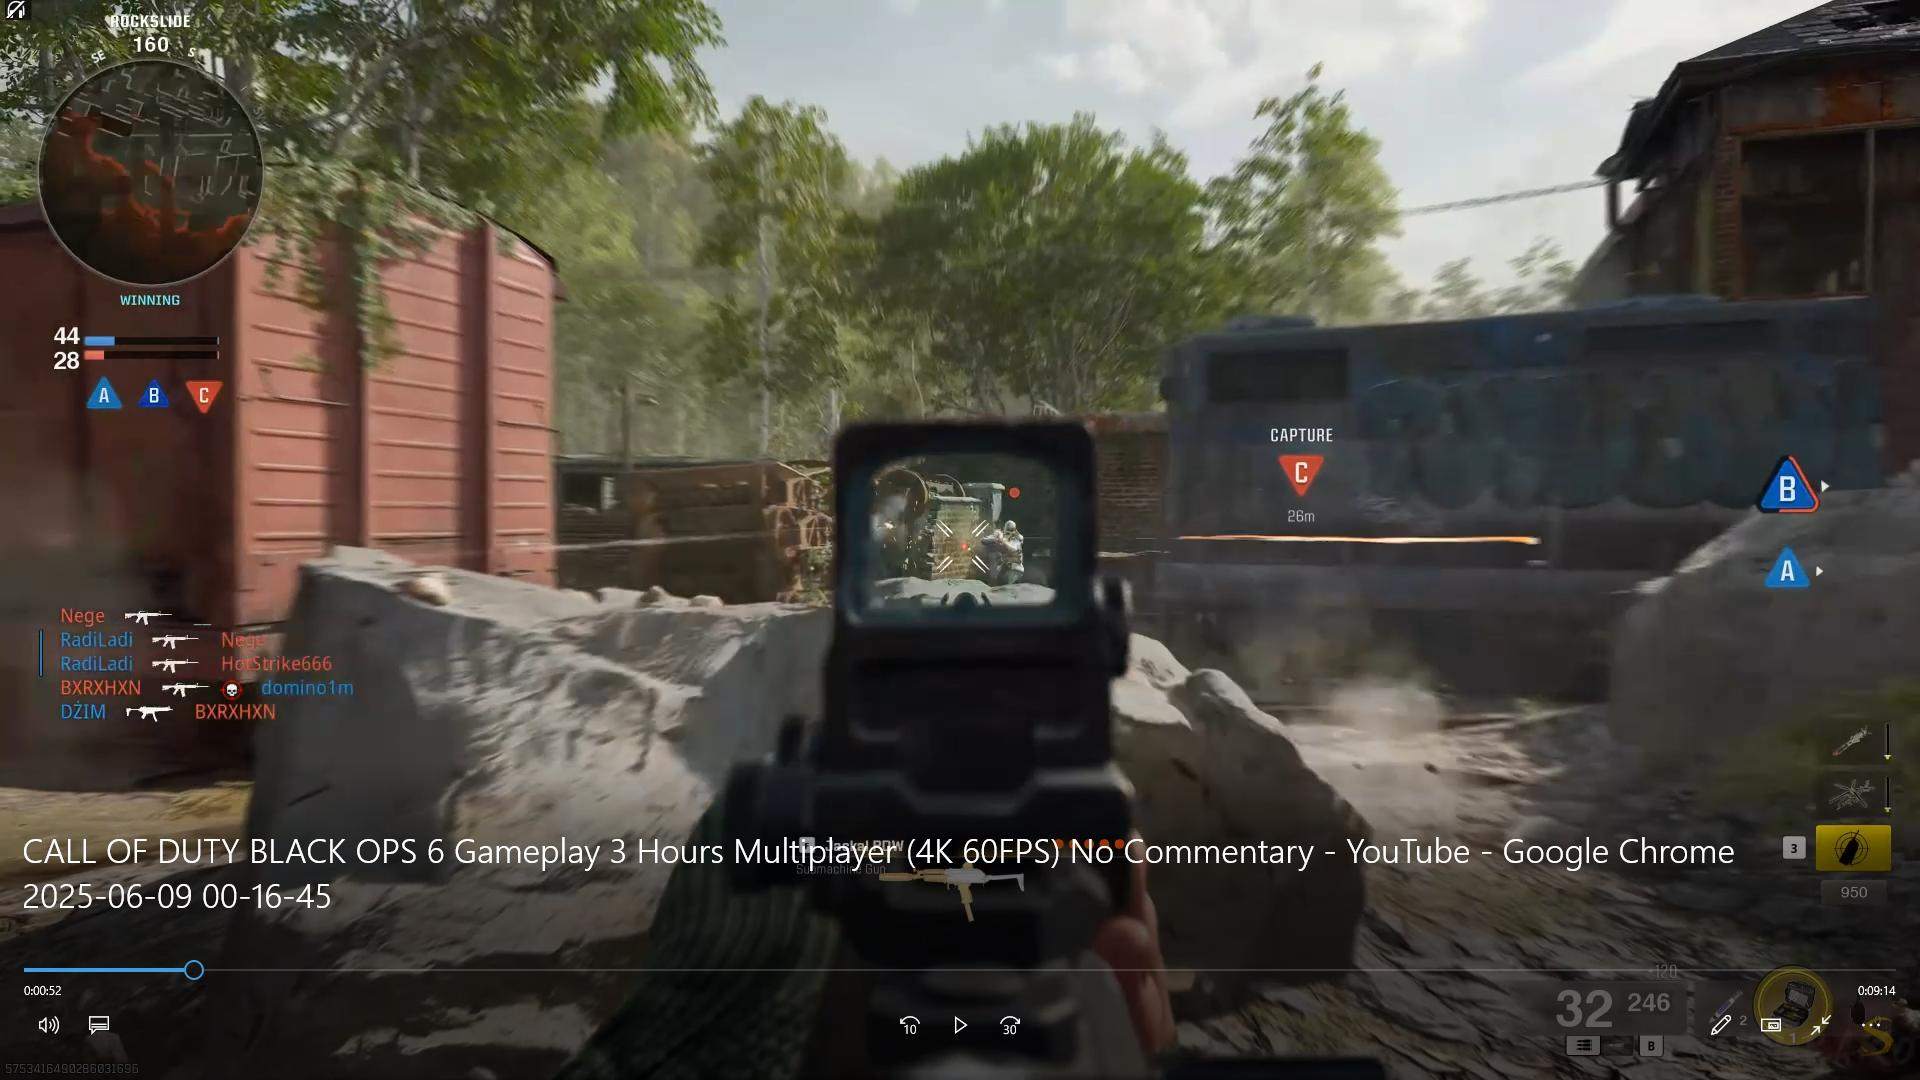Enemy: (981, 510, 1031, 584)
